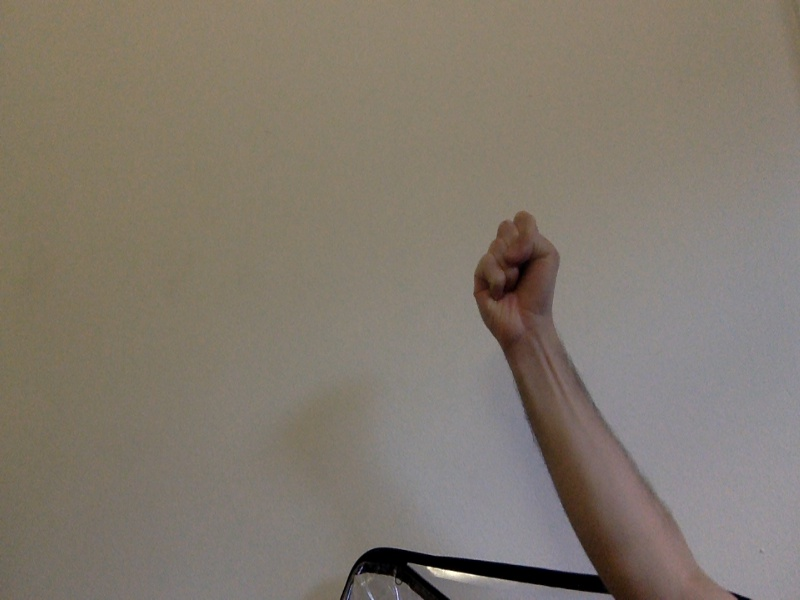0-hand: (472, 211, 561, 344)
